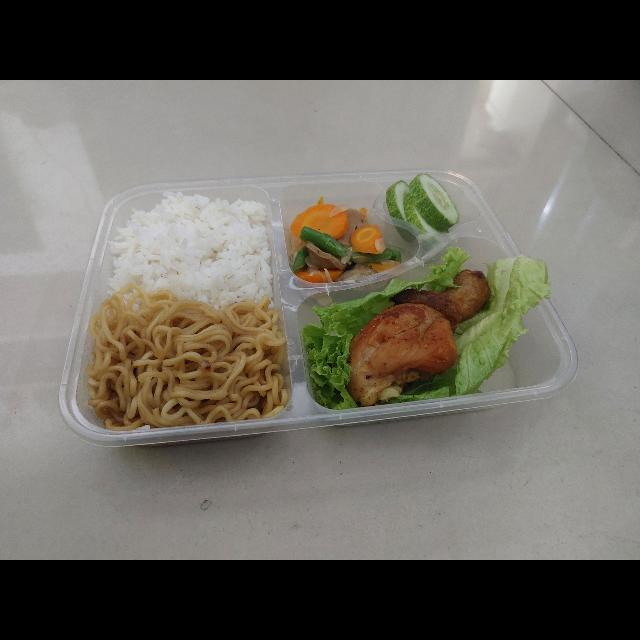bento: (51, 162, 599, 457)
